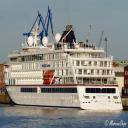cruises: (4, 26, 124, 113)
